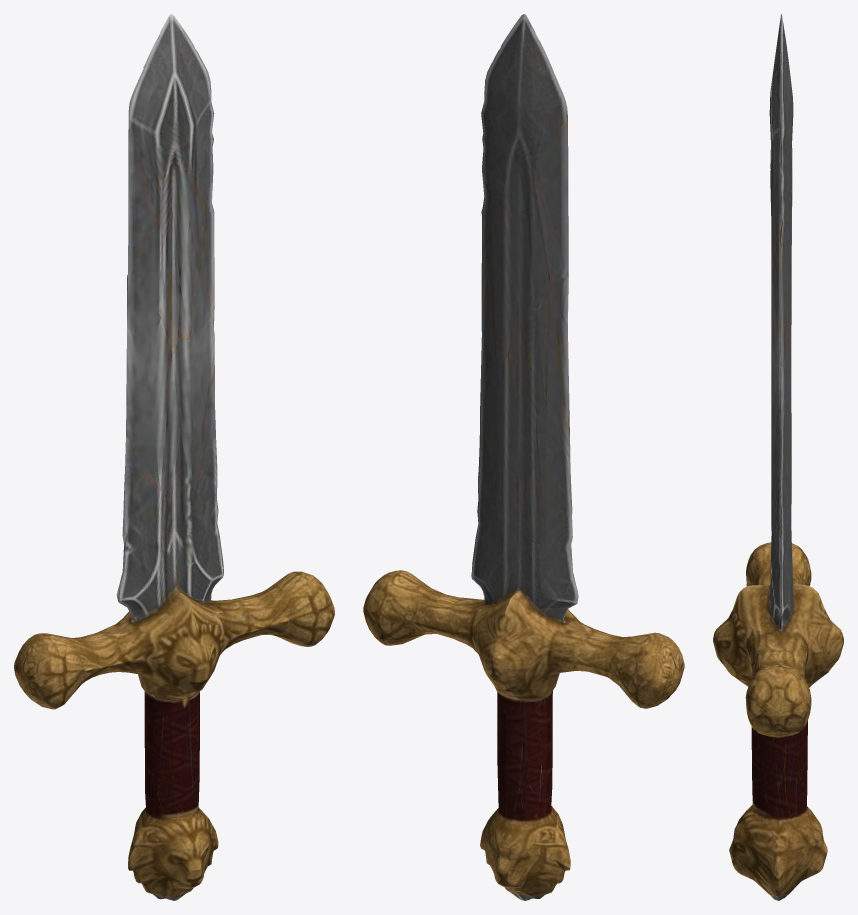
The model's file is lion_sword.glb.
3 renders of one model, left to right at view 1: azimuth 30°, elevation 25°; view 2: azimuth 150°, elevation 25°; view 3: azimuth 270°, elevation 25°, orthographic.
Size of the model in its own units: 0.6412 by 1.78 by 0.2382.
1 material, 1 textured.
